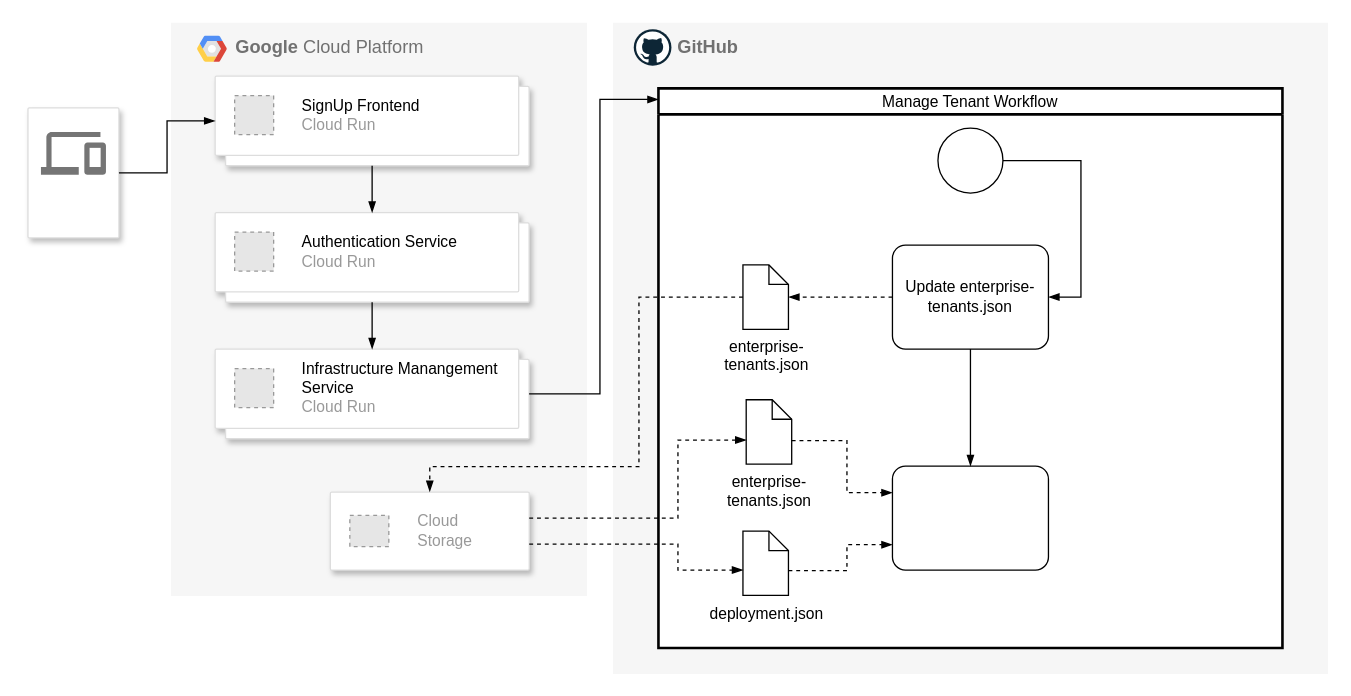
This 1351x696 diagram has some shape labels left out. Grey dashed boxes stand in for pictures. The centre of each missing label's shape, as x and y in pixels:
Run terraform apply: the point at 969,517
User: the point at 74,174
Workflow dispatched: the point at 970,160
